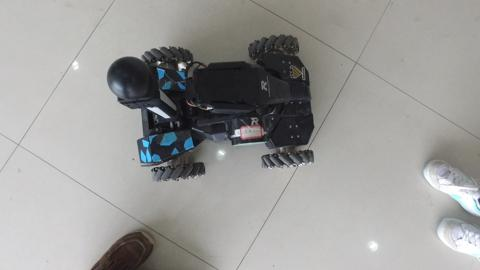chariot: (99, 29, 325, 179)
